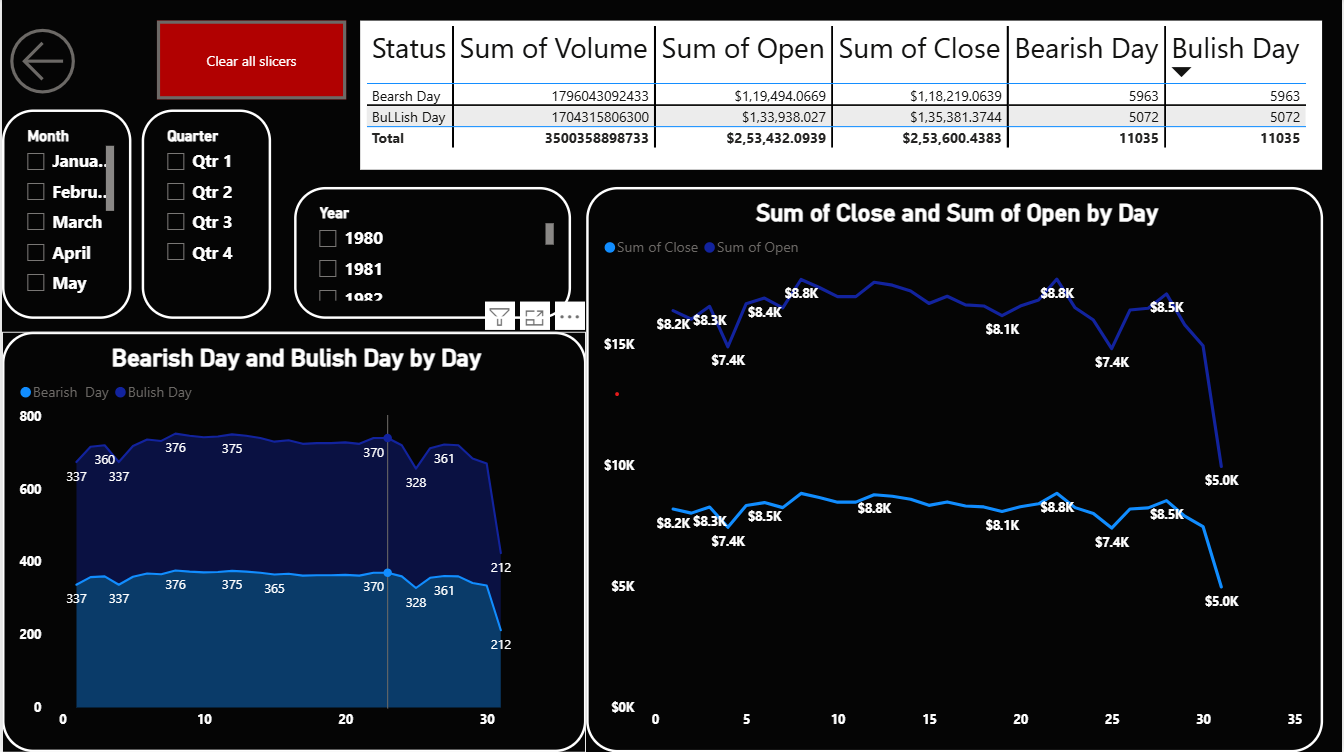

What the dashboard file says about the page in this screenshot:
{"tool":"powerbi","page":{"name":"Review Compare ","canvas":[1280,720],"ordinal":3},"visuals":[{"type":"tableEx","fields":{"Values":["AppleStockPrice.Status","Sum(AppleStockPrice.Volume)","Sum(AppleStockPrice.Open)","Sum(AppleStockPrice.Close)","AppleStockPrice.Bearish  Day","AppleStockPrice.Bulish Day"]},"box":[342.6,20.4,918.5,142.6],"z":0},{"type":"actionButton","box":[0,20.6,105.5,77.6],"z":1000},{"type":"actionButton","box":[148,20.6,180.8,75.2],"z":2000},{"type":"stackedAreaChart","fields":{"Category":["AppleStockPrice.Date.Variation.Date Hierarchy.Day"],"Y":["AppleStockPrice.Bearish  Day","AppleStockPrice.Bulish Day"]},"box":[0,317.9,558.1,401.6],"z":3000},{"type":"stackedAreaChart","fields":{"Category":["AppleStockPrice.Date.Variation.Date Hierarchy.Day"],"Y":["Sum(AppleStockPrice.Close)","Sum(AppleStockPrice.Open)"]},"box":[558,180,704,540],"z":4000},{"type":"slicer","fields":{"Values":["AppleStockPrice.Date.Variation.Date Hierarchy.Month"]},"box":[0,105.5,123.7,200.2],"z":5000},{"type":"slicer","fields":{"Values":["AppleStockPrice.Date.Variation.Date Hierarchy.Quarter"]},"box":[133.4,105.5,123.7,200.2],"z":6000},{"type":"slicer","fields":{"Values":["AppleStockPrice.Date.Variation.Date Hierarchy.Year"]},"box":[279,179.5,264.5,126.2],"z":7000}]}

Visuals, with their boxes in screenshot pixels (x1, y1, x2, y2), scaled from the page's 1280x720 canvas onto the 1344x752 screenshot:
tableEx - AppleStockPrice.Status x Sum(AppleStockPrice.Volume): 360 21 1324 170
actionButton: 0 22 111 103
actionButton: 155 22 345 100
stackedAreaChart - AppleStockPrice.Date.Variation.Date Hierarchy.Day x AppleStockPrice.Bearish  Day: 0 332 586 751
stackedAreaChart - AppleStockPrice.Date.Variation.Date Hierarchy.Day x Sum(AppleStockPrice.Close): 586 188 1325 751
slicer - AppleStockPrice.Date.Variation.Date Hierarchy.Month: 0 110 130 319
slicer - AppleStockPrice.Date.Variation.Date Hierarchy.Quarter: 140 110 270 319
slicer - AppleStockPrice.Date.Variation.Date Hierarchy.Year: 293 187 571 319
